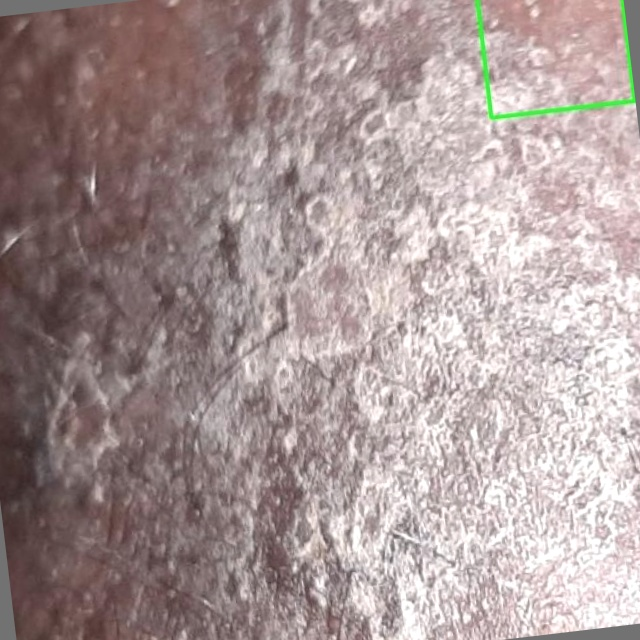Tinea Corporis: (477, 0, 634, 118)
